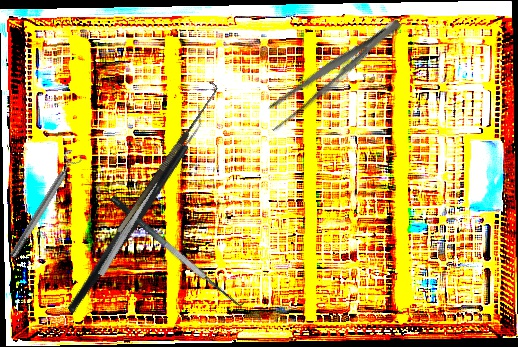Chopper: (14, 102, 256, 316)
Dressing Forceps: (258, 9, 408, 136)
Fixation Ring: (3, 147, 85, 262)
Hook Surgical: (108, 80, 223, 234)
Pusher: (96, 144, 180, 278)
Spatula Surgical: (109, 183, 250, 314)
